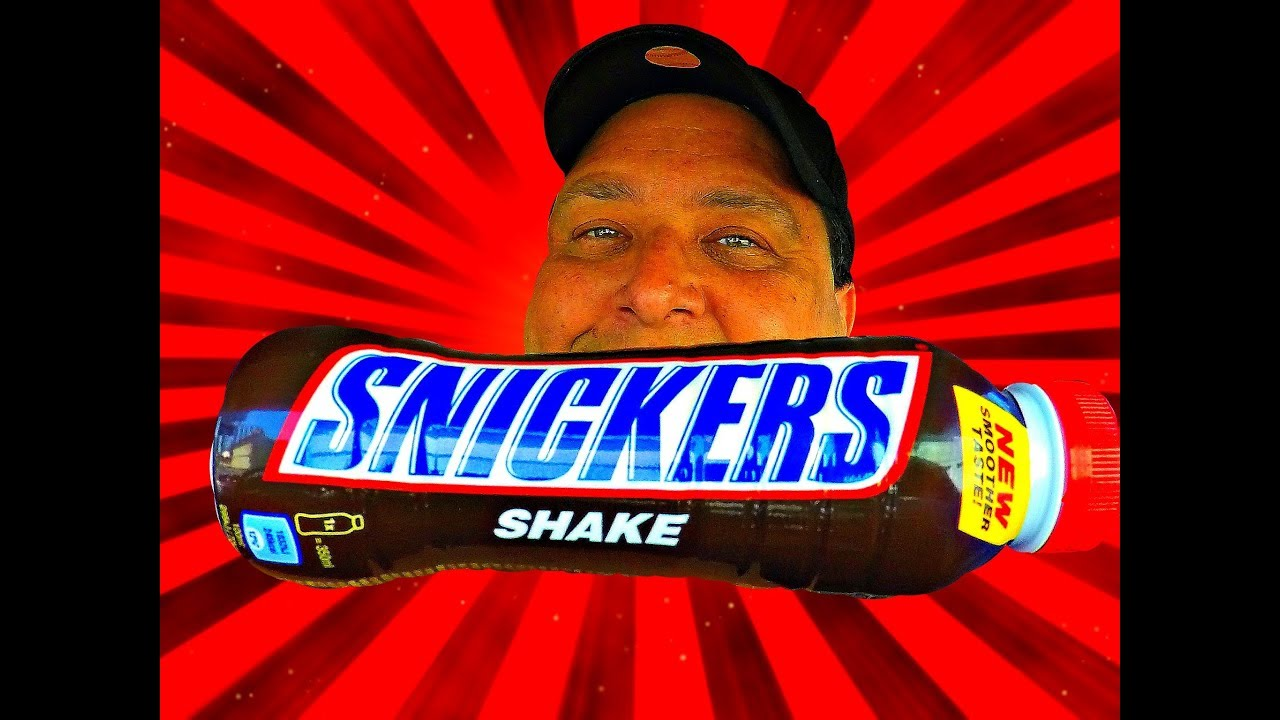snickers: (291, 344, 905, 481), (291, 352, 905, 481)
